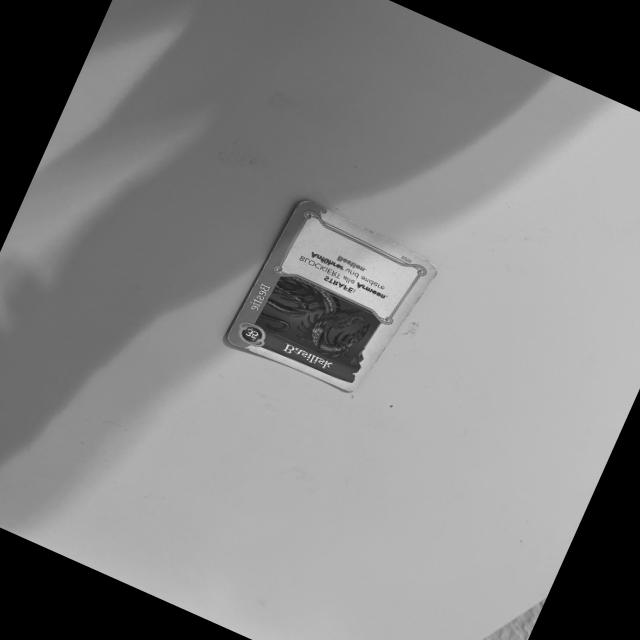Basilisk: (224, 195, 444, 396)
